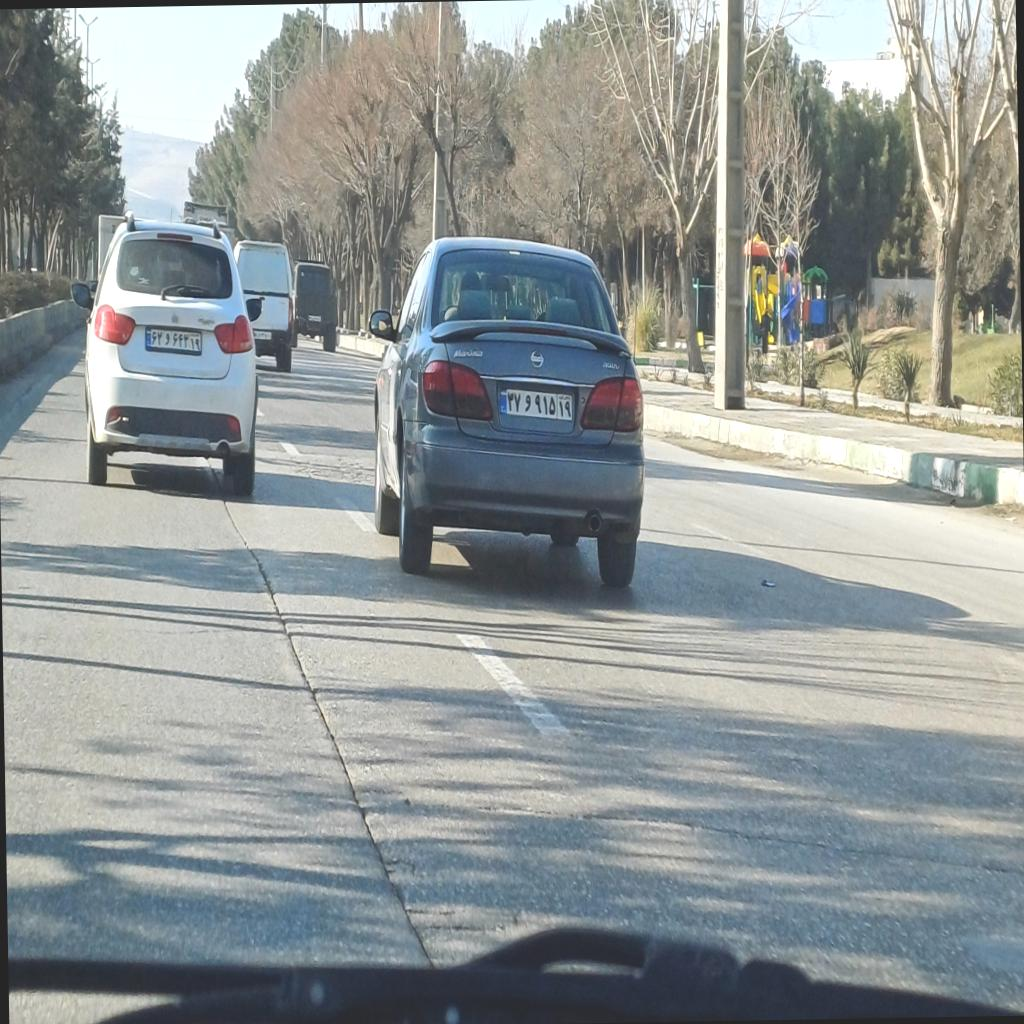Plates: (496, 380, 576, 424), (144, 323, 204, 358)
